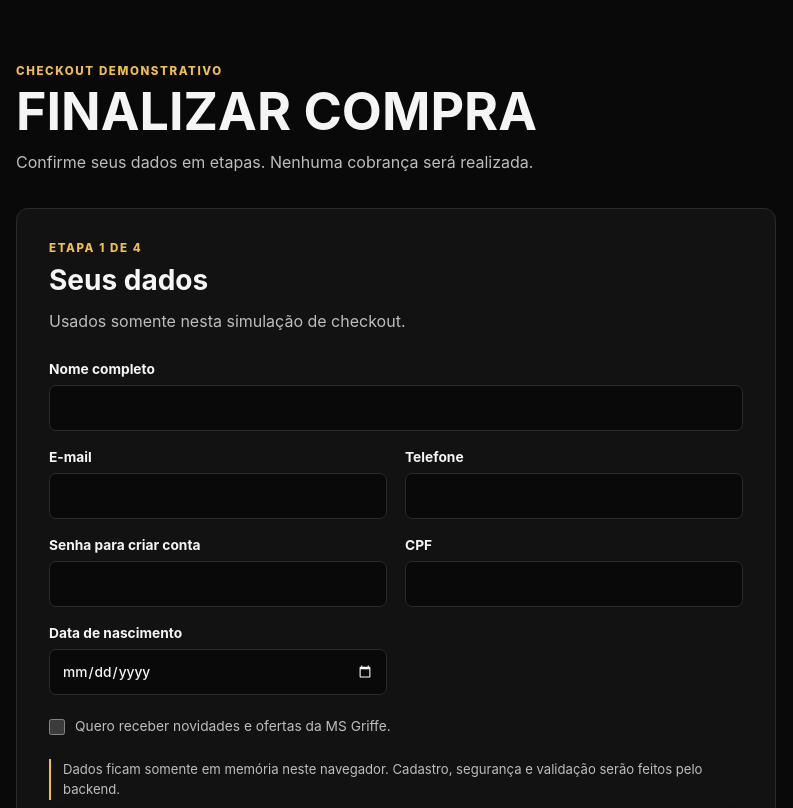
Test: CheckoutPage › valida os dados exigidos antes de liberar a próxima etapa visual
Type "Maria Silva" into the field labelled "Nome completo" at (396, 408), box 49,385 -> 743,431
Type "maria@exemplo.com" into the field labelled "E-mail" at (218, 496), box 49,473 -> 387,519
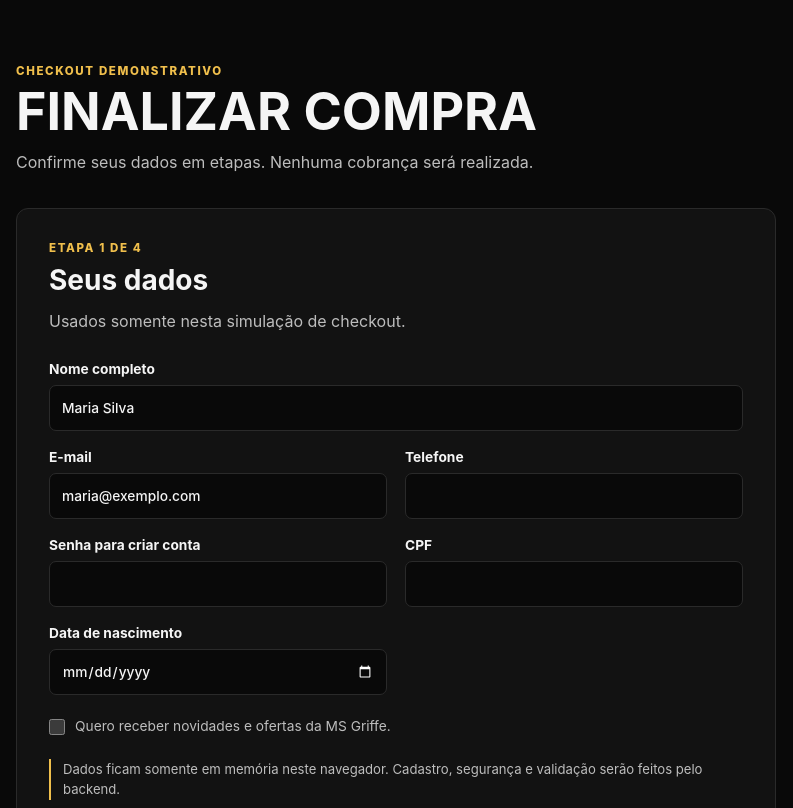
Type "(71) 99999-9999" into the field labelled "Telefone" at (574, 496), box 405,473 -> 743,519
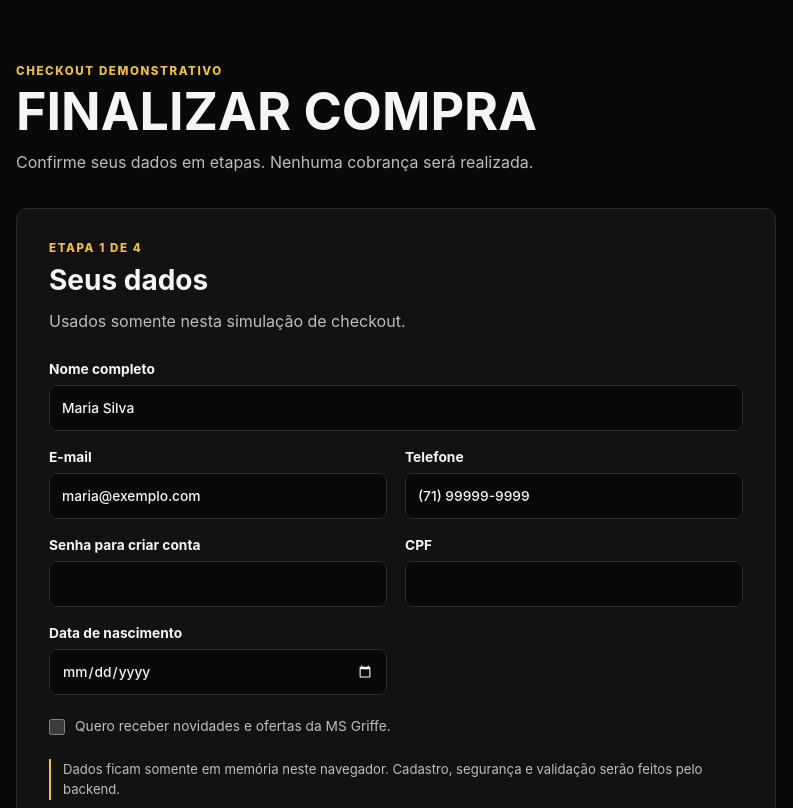
Type "senha-segura" into the password field labelled "Senha para criar conta" at (218, 584), box 49,561 -> 387,607
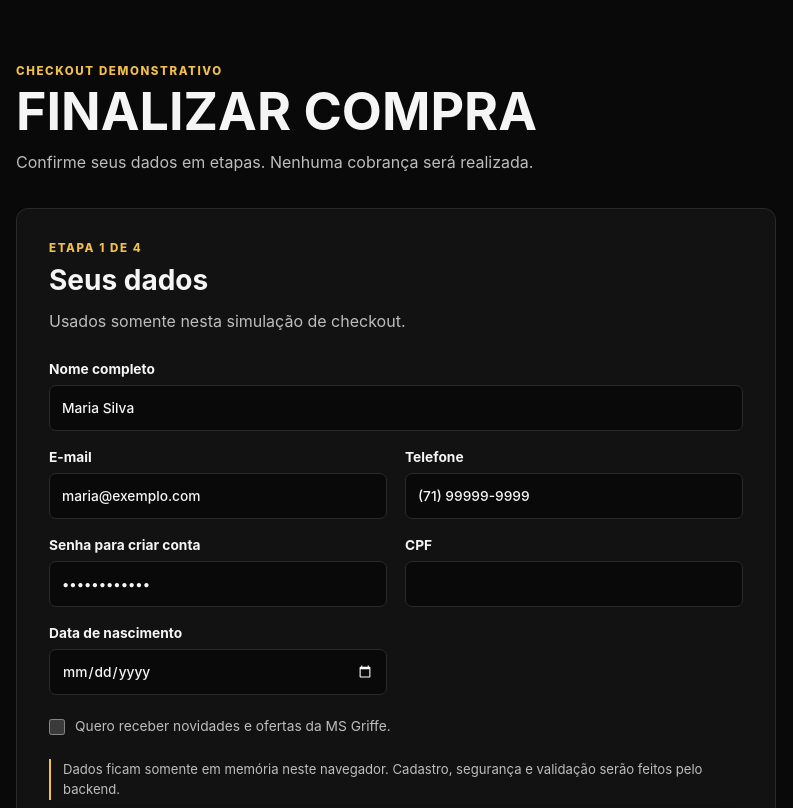
Type "123.456.789-09" into the field labelled "CPF" at (574, 584), box 405,561 -> 743,607
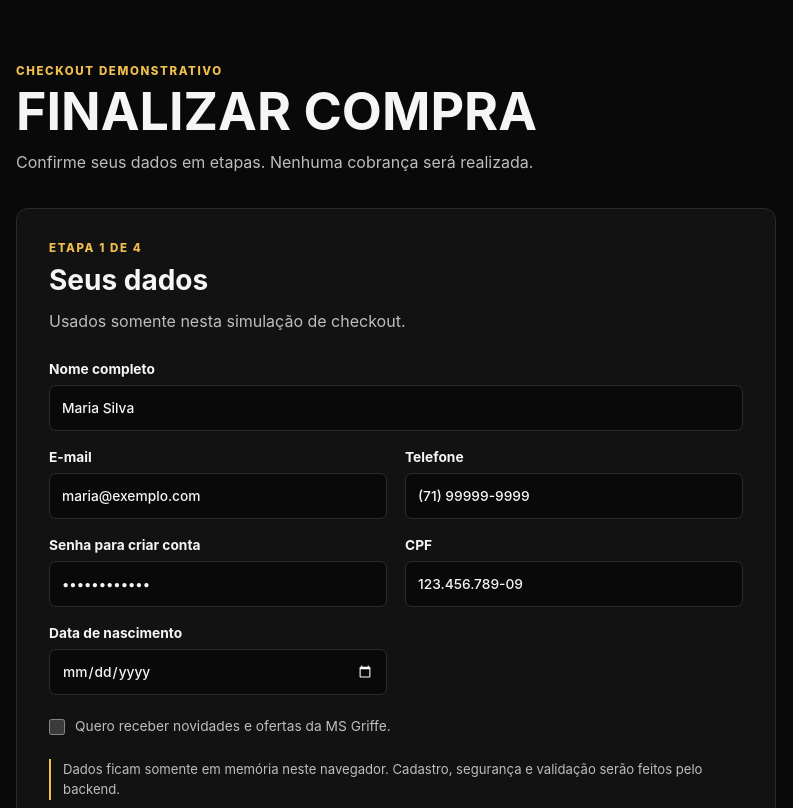
Type "1990-01-20" into the date field labelled "Data de nascimento" at (218, 672), box 49,649 -> 387,695
(page scrolled)
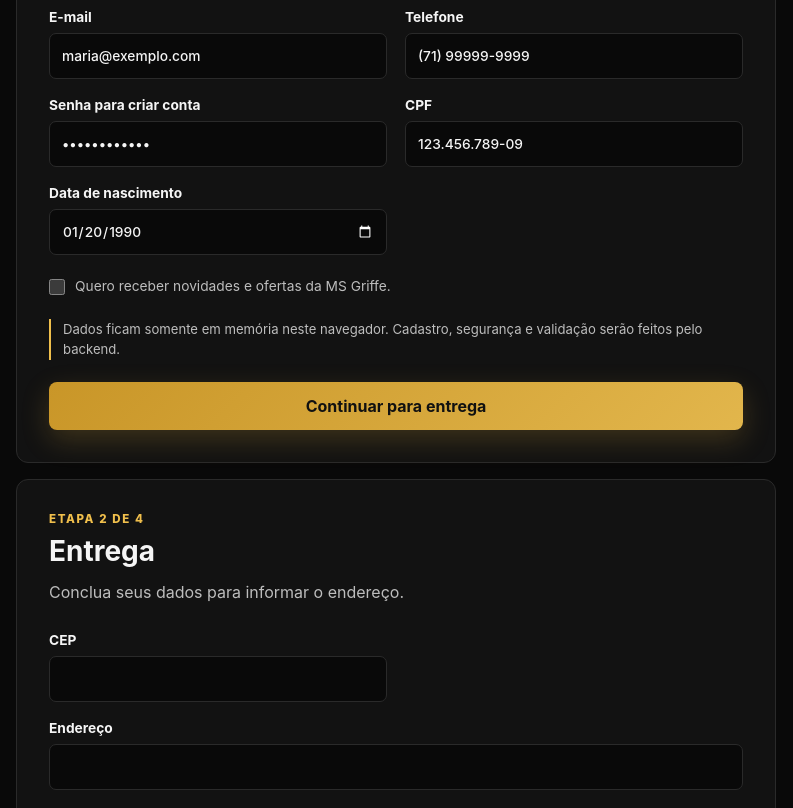
Click the button "Continuar para entrega" at (396, 406), box 49,382 -> 743,430
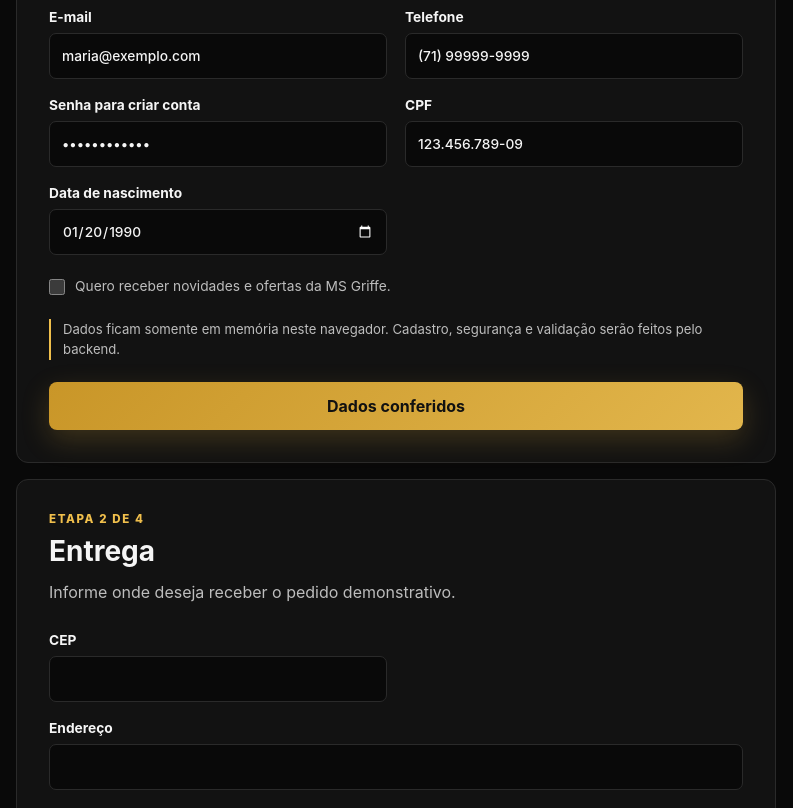
Now the button "Dados conferidos" is shown, box 49,382 -> 743,430
